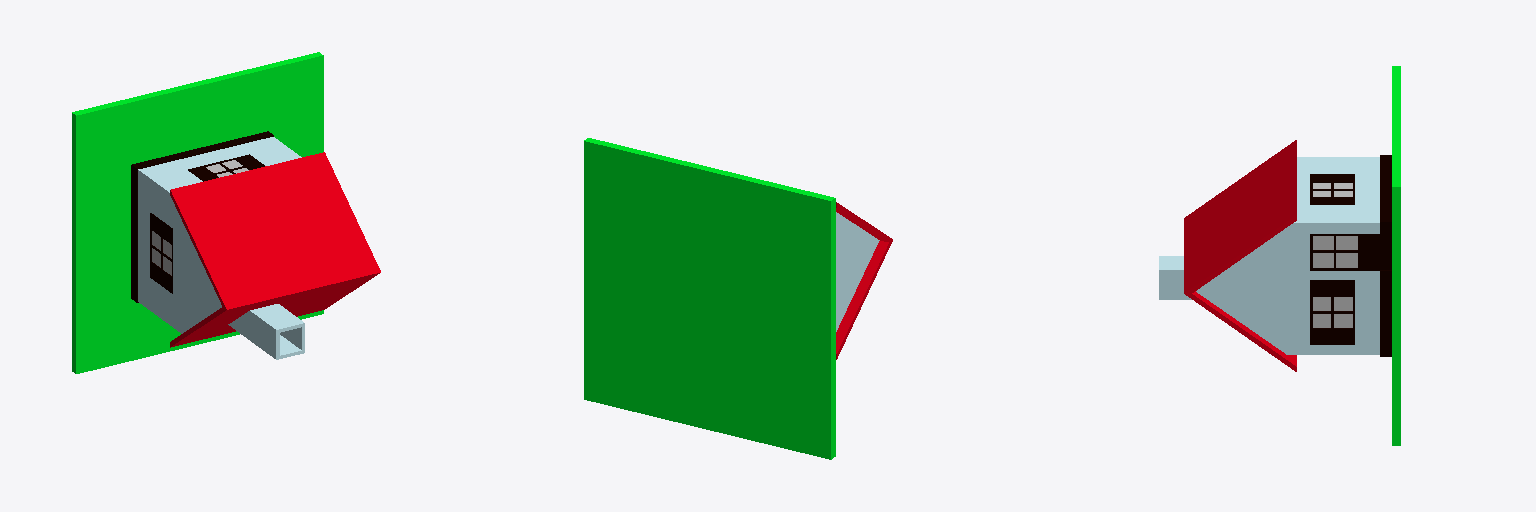
Rendered from Cartoon_House_scaled.obj.
The picture shows the model from 3 angles: view 1: azimuth 30°, elevation 25°; view 2: azimuth 150°, elevation 25°; view 3: azimuth 270°, elevation 25°; orthographic projection.
Parts seen in each view (by area): view 1: House, Grass, Window, Glass; view 2: Grass, House; view 3: House, Window, Grass, Glass.
Part boxes in pixels (bbox=[...]): House: bbox=[131, 131, 380, 359]; Grass: bbox=[72, 52, 323, 373]; Window: bbox=[150, 154, 264, 293]; Glass: bbox=[152, 160, 248, 275]; Grass: bbox=[584, 138, 835, 459]; House: bbox=[836, 202, 892, 359]; House: bbox=[1159, 140, 1391, 371]; Window: bbox=[1310, 174, 1391, 344]; Grass: bbox=[1392, 66, 1400, 445]; Glass: bbox=[1313, 183, 1357, 327].
Size of the model in its own units: 8.56 by 8.56 by 7.28.